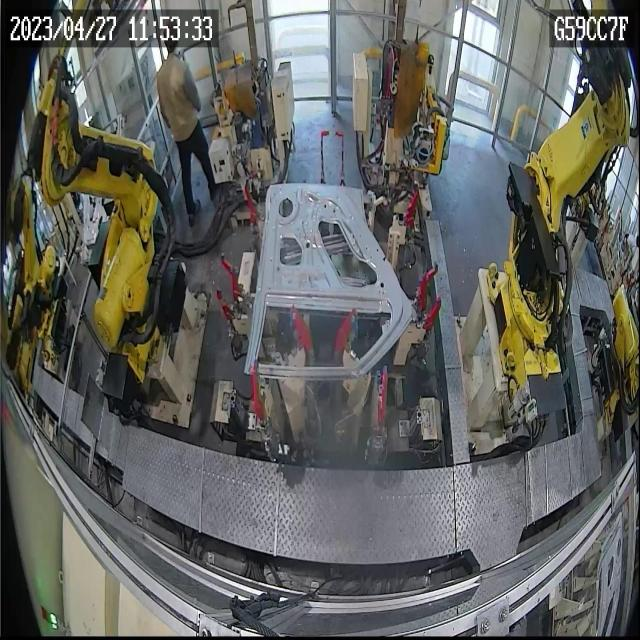Person: (156, 38, 217, 228)
